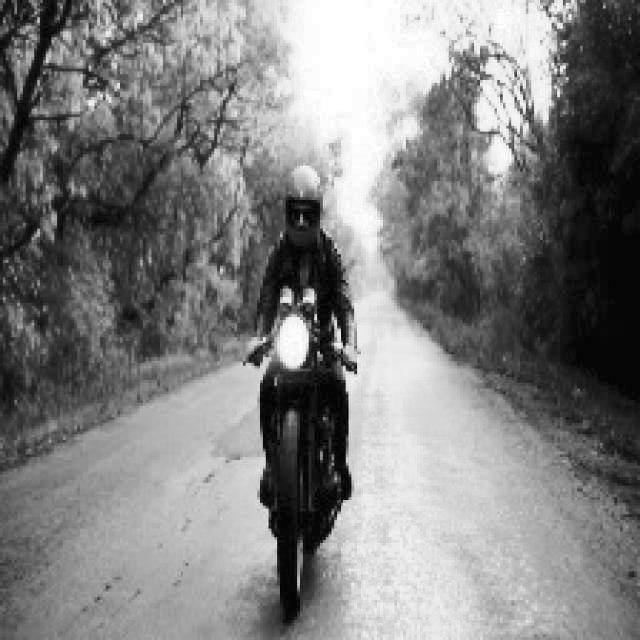Bike: (261, 290, 342, 628)
